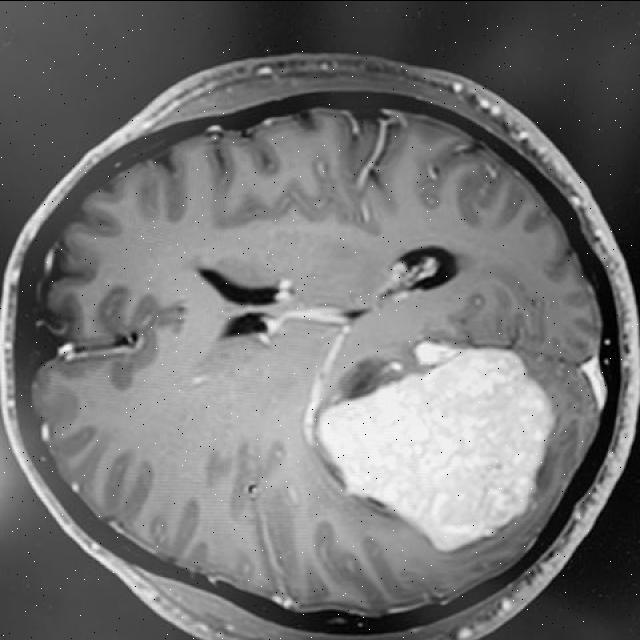Meningioma: (319, 341, 555, 550)
